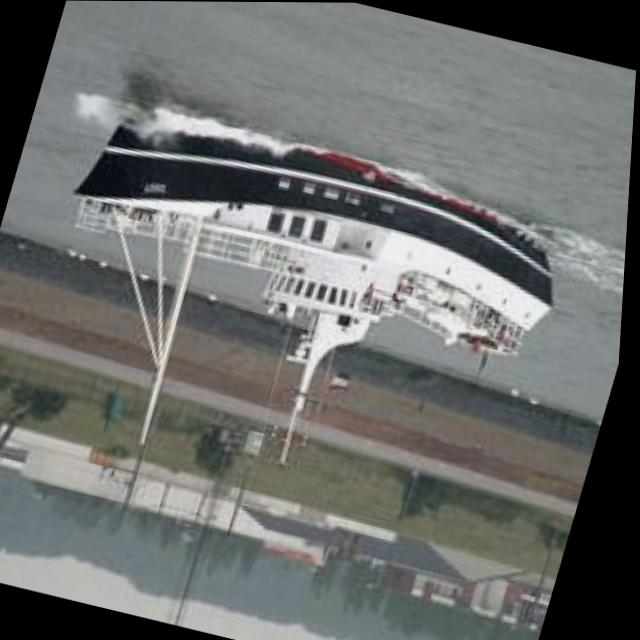ship2: (76, 126, 559, 445)
